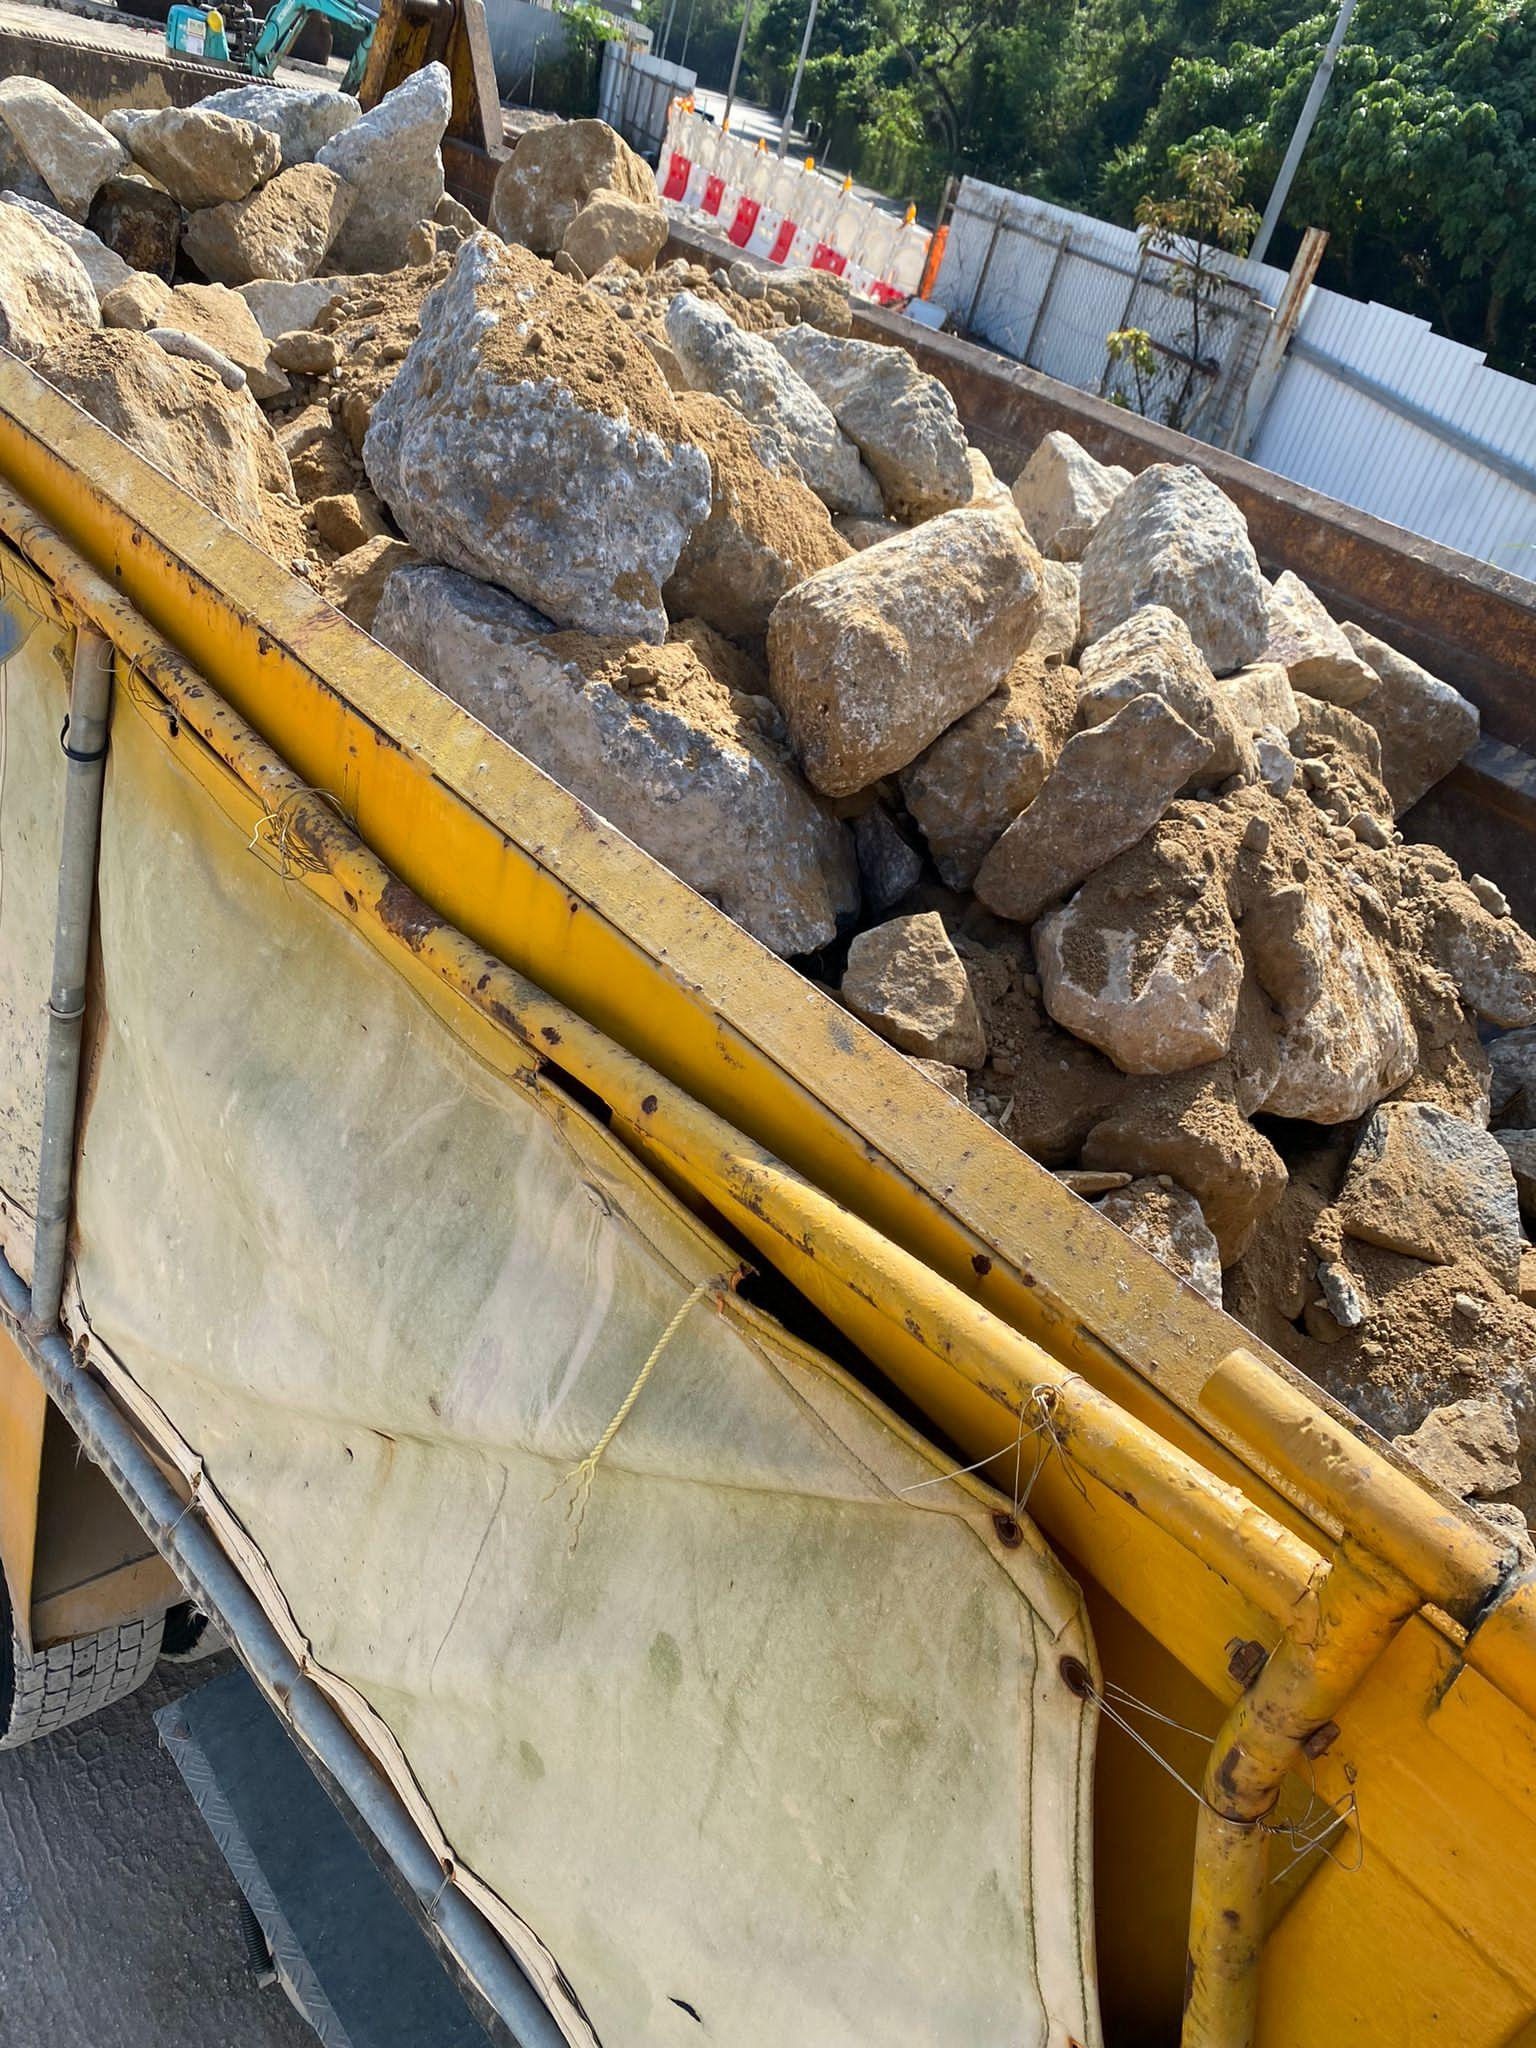stone: (1, 54, 1534, 1538), (359, 224, 715, 644), (763, 499, 1045, 797)
